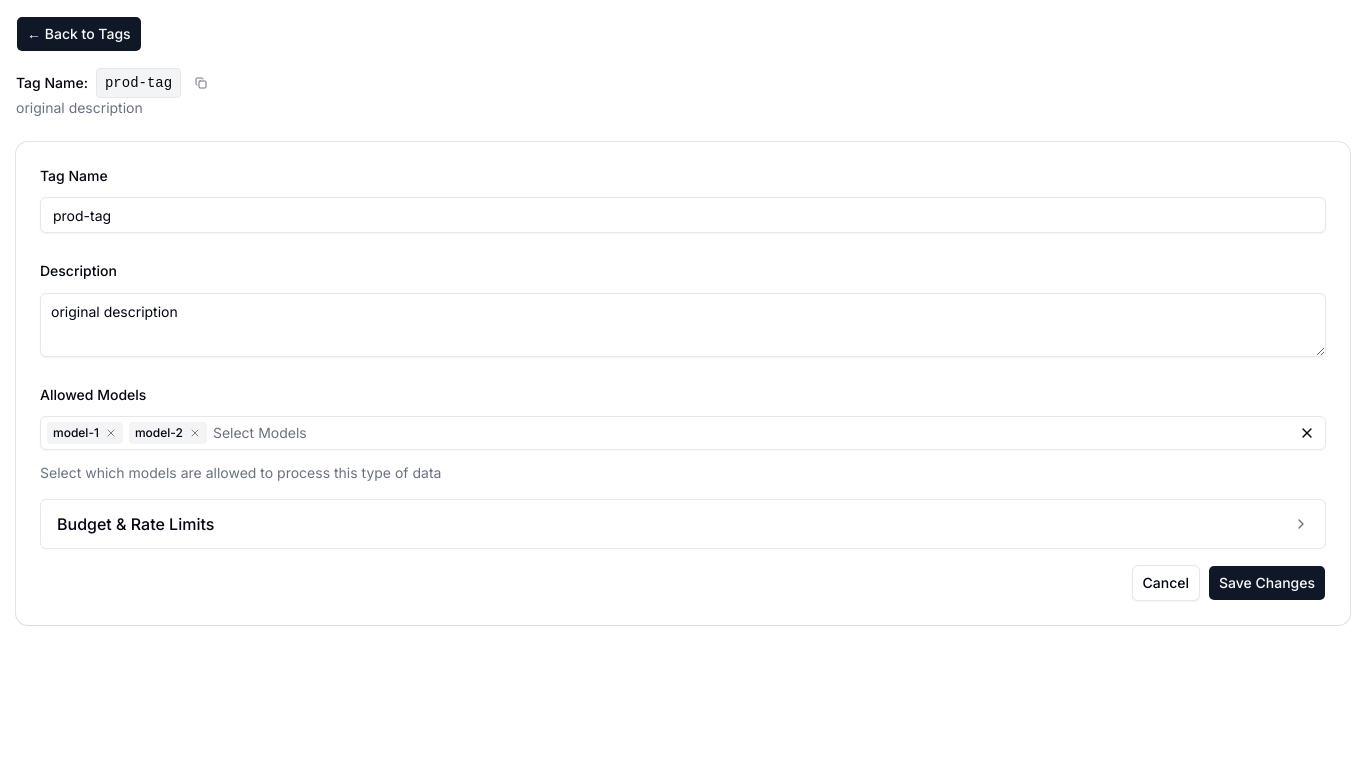
Test: TagInfoView save payload › leaves the tag untouched and returns to the detail view when Cancel is clicked
This screenshot has width=1366, height=760.
Replace the text in the text box labelled "Description" with "abandoned description" at (683, 324), box [40,292,1326,356]
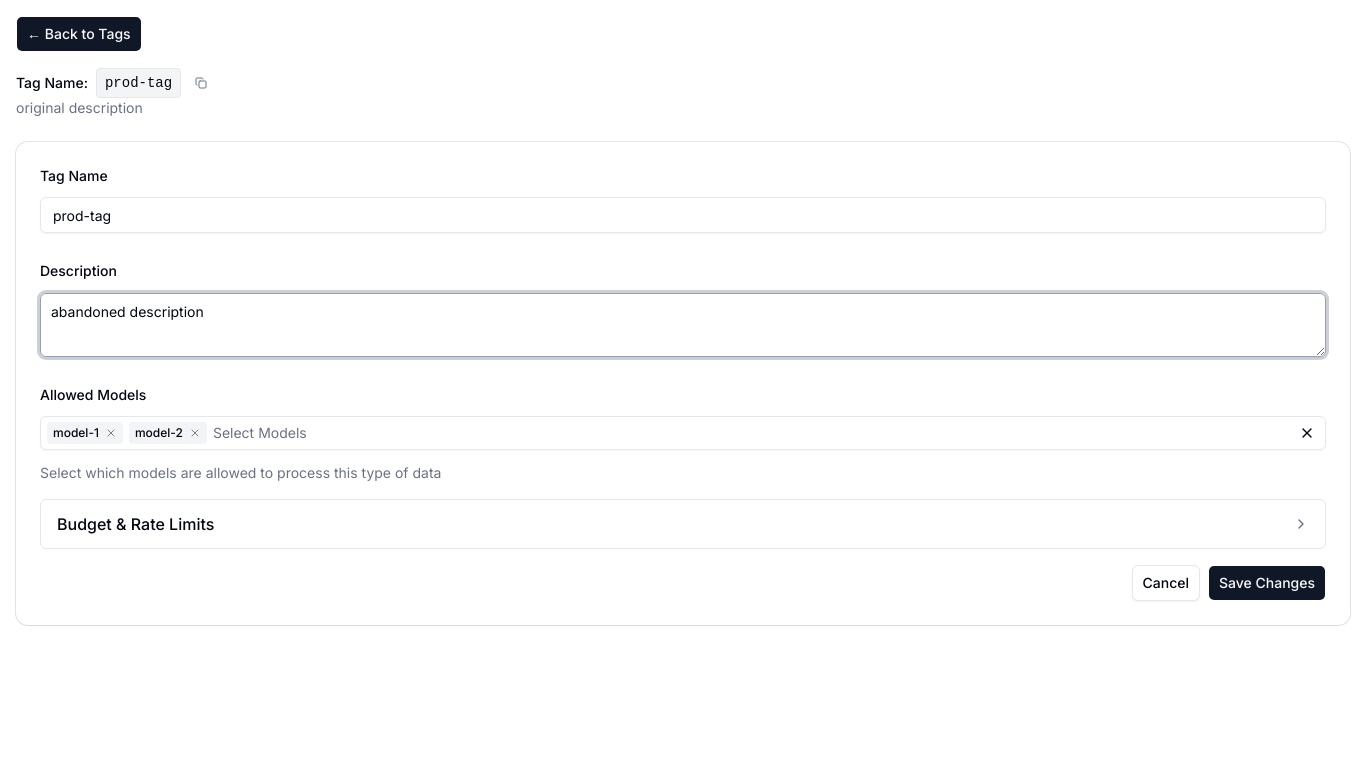
Click the button "Cancel" at (1166, 583), box [1132,565,1200,601]
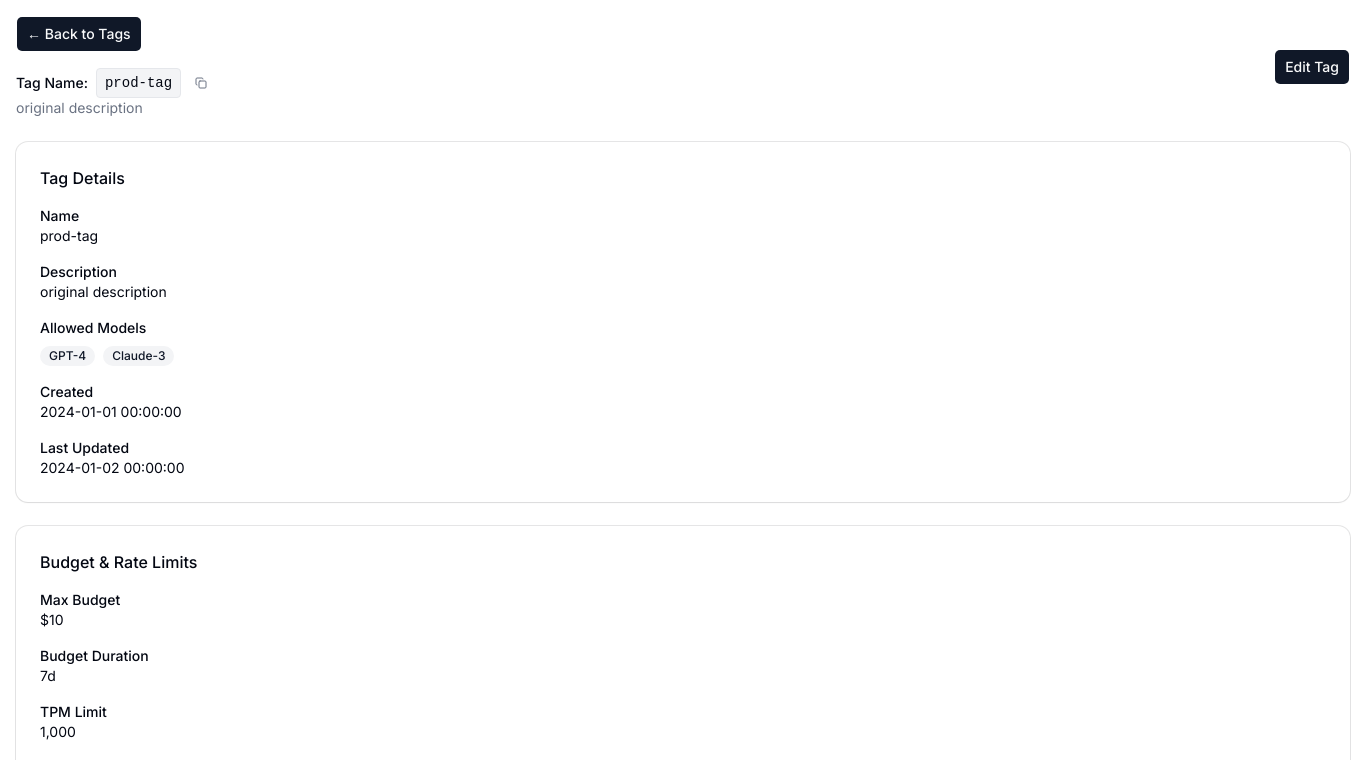
Expected: the text "Tag Details" is shown, [40,168,125,188]
